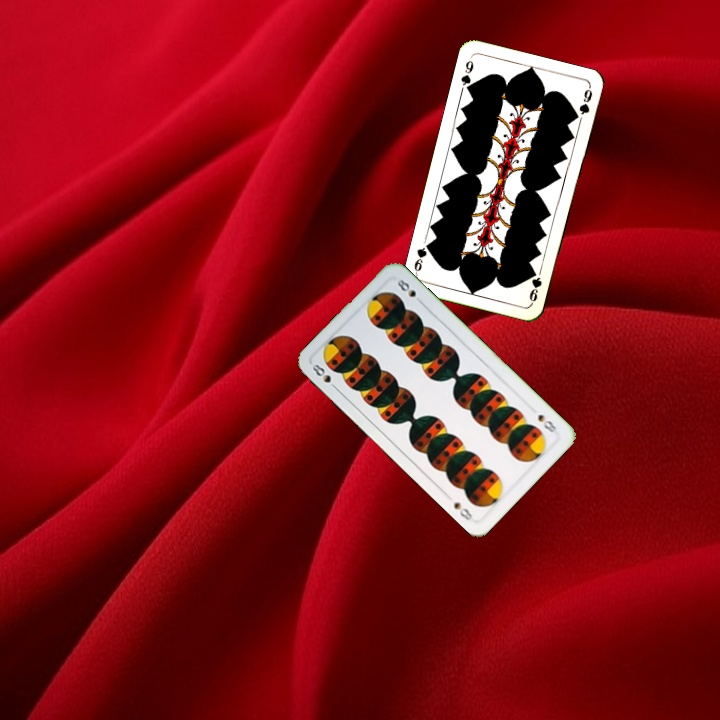G9: (525, 266, 544, 306), (457, 56, 476, 95)
S8: (308, 360, 341, 393), (534, 410, 561, 435)
